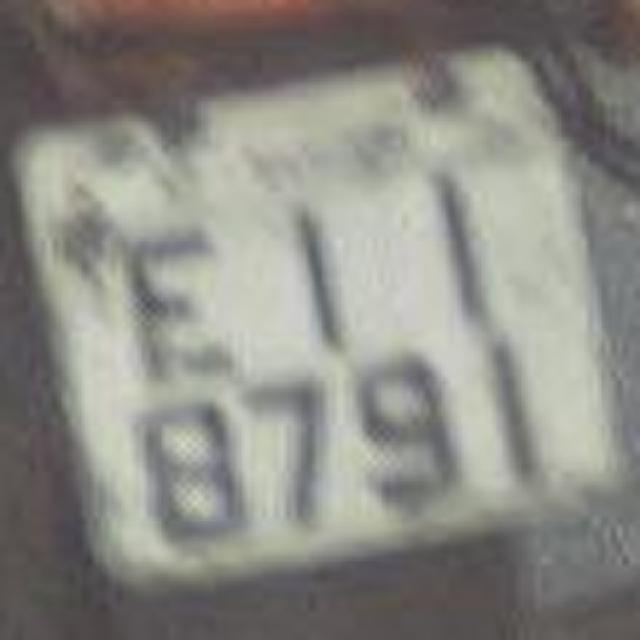7: (232, 364, 340, 536)
8: (124, 376, 248, 556)
9: (336, 336, 464, 516)
E: (116, 212, 232, 376)
I: (272, 188, 360, 352)
